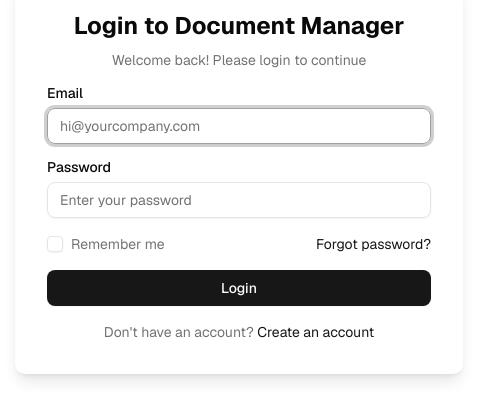
Test: LoginForm › shows loading state during form submission
Note: Fill in the form with valid values
Type "test@example.com" into the field labelled "Email".
click(239, 126); type("test@example.com")  # box [47, 108, 431, 144]
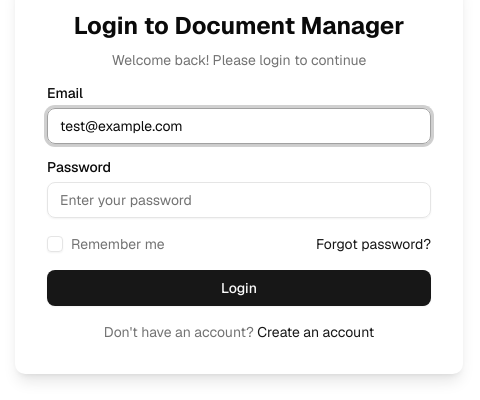
Type "password" into the password field labelled "Password".
click(239, 200); type("password")  # box [47, 182, 431, 218]
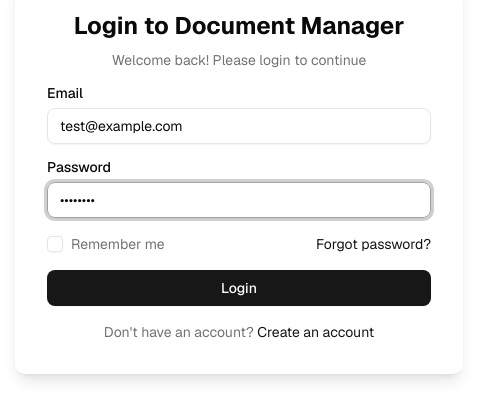
Note: Submit the form
Click the button "Login".
click(239, 288)  # box [47, 270, 431, 306]
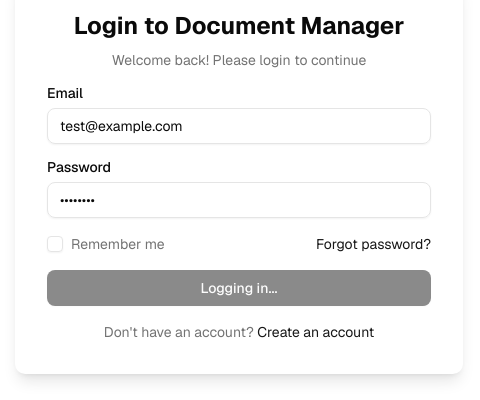
Expected: the button "Logging in..." is disabled, [47, 270, 431, 306]
